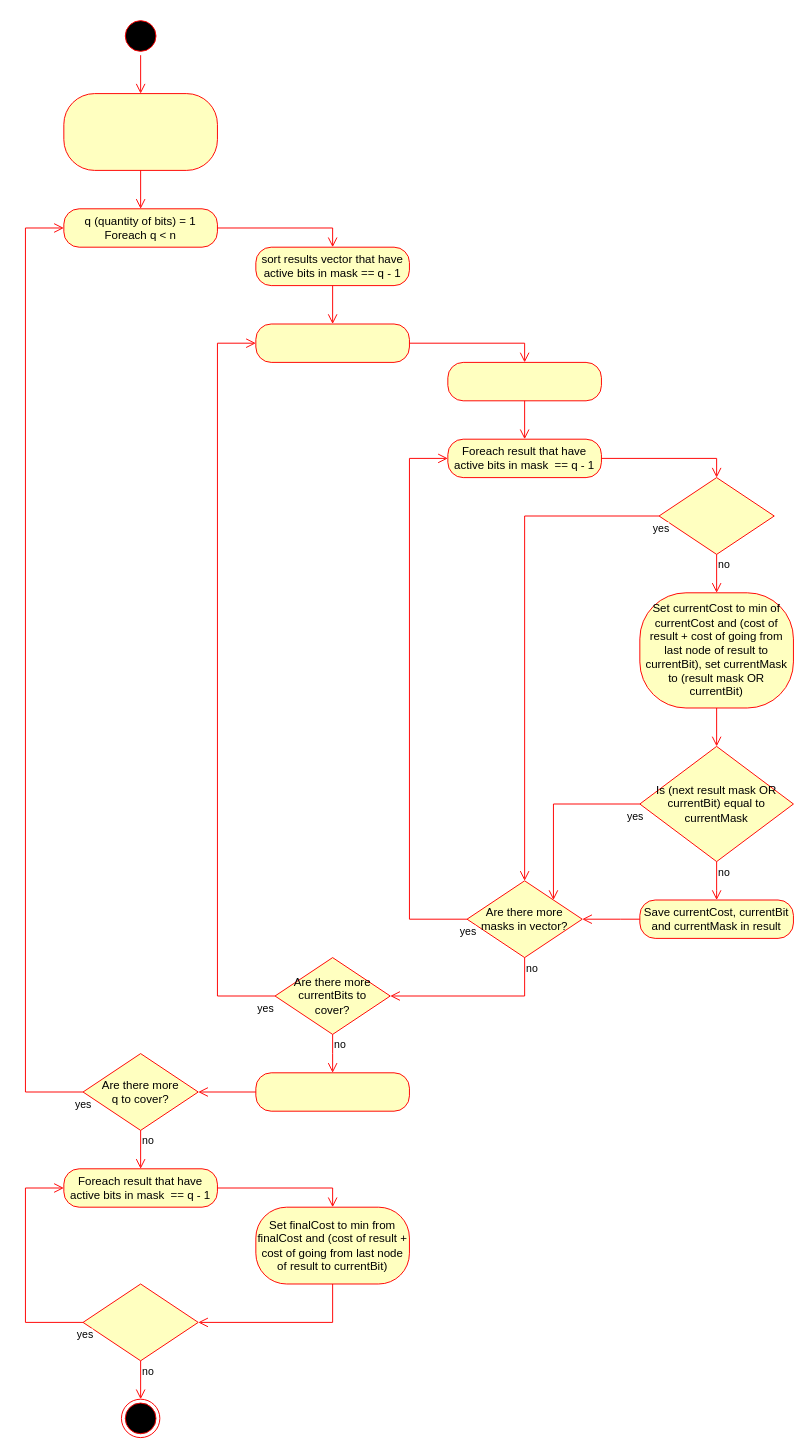
The diagram is 810 pixels wide and 1454 high, and some of its shapes have lost their labels. Each missing label, with the centre of its shape:
Are there more results to cover?: (140,1322)
Clear results that have active bits in mask == q - 1: (332,1091)
currentBit = 1, Foreach currentBit < n: (332,342)
currentCost = MAX: (524,381)
Is currentBit ON in result mask?: (716,515)
Save first iteration of masks (path from source(0) to every other node): (140,131)
